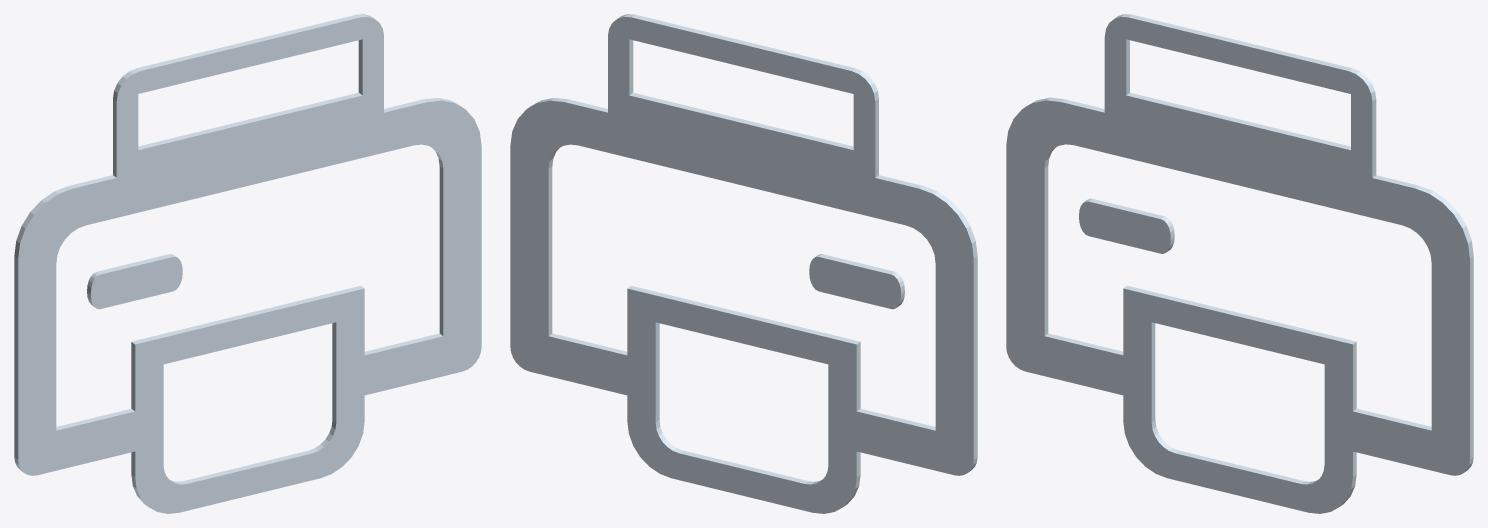
File: Printer_3D_Icon_01.fbx
The picture shows the model from 3 angles, left to right: view 1: azimuth 30°, elevation 25°; view 2: azimuth 150°, elevation 25°; view 3: azimuth 330°, elevation 25°; orthographic projection.
Visible parts, largest first — view 1: Printer_3D_Icon_01; view 2: Printer_3D_Icon_01; view 3: Printer_3D_Icon_01.
Part boxes in pixels (left/top/right/bottom): Printer_3D_Icon_01: left=14, top=14, right=481, bottom=513; Printer_3D_Icon_01: left=510, top=14, right=977, bottom=513; Printer_3D_Icon_01: left=1006, top=14, right=1473, bottom=513.
Size of the model in its own units: 139 by 129 by 2.
